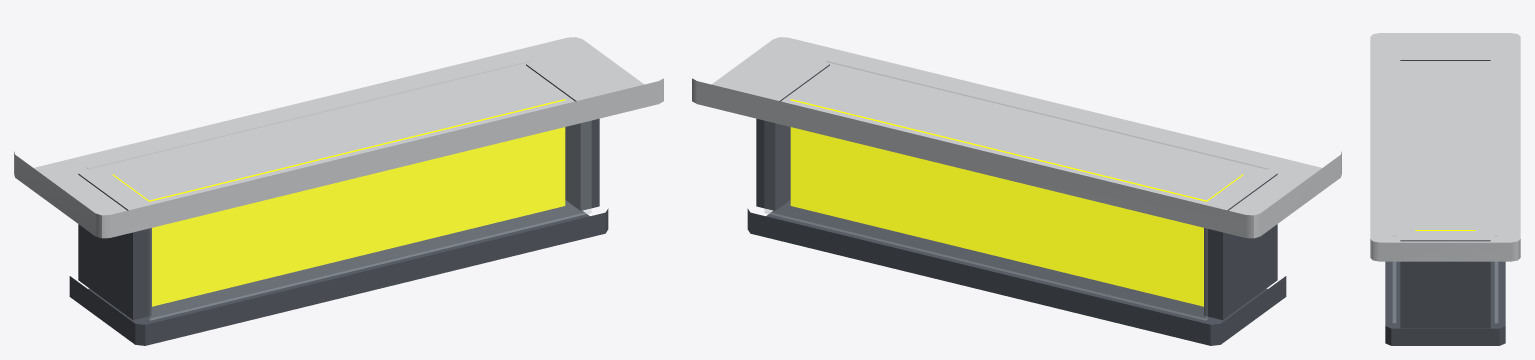
The model's file is ext_bench_05.glb.
The picture shows the model from 3 angles, left to right: view 1: azimuth 30°, elevation 25°; view 2: azimuth 150°, elevation 25°; view 3: azimuth 270°, elevation 25°; orthographic projection. The views are drawn at different scales.
Parts seen in each view (by area): view 1: Seat, Glass_Panes, Light_Core, Plinth, End_Posts; view 2: Seat, Glass_Panes, Light_Core, Plinth, End_Posts; view 3: Seat, End_Posts, Plinth, Glass_Panes.
Boxes of the visible parts, left/top/right/bottom form: Seat: left=14, top=37, right=663, bottom=238; Glass_Panes: left=87, top=61, right=591, bottom=320; Light_Core: left=112, top=99, right=565, bottom=306; Plinth: left=69, top=200, right=608, bottom=345; End_Posts: left=78, top=64, right=599, bottom=320; Seat: left=692, top=37, right=1341, bottom=238; Glass_Panes: left=764, top=61, right=1268, bottom=320; Light_Core: left=790, top=99, right=1243, bottom=306; Plinth: left=747, top=200, right=1286, bottom=345; End_Posts: left=756, top=64, right=1277, bottom=320; Seat: left=1370, top=33, right=1520, bottom=261; End_Posts: left=1400, top=60, right=1490, bottom=328; Plinth: left=1385, top=261, right=1505, bottom=345; Glass_Panes: left=1393, top=235, right=1497, bottom=322.
Size of the model in its own units: 1.8 by 0.45 by 0.5.
